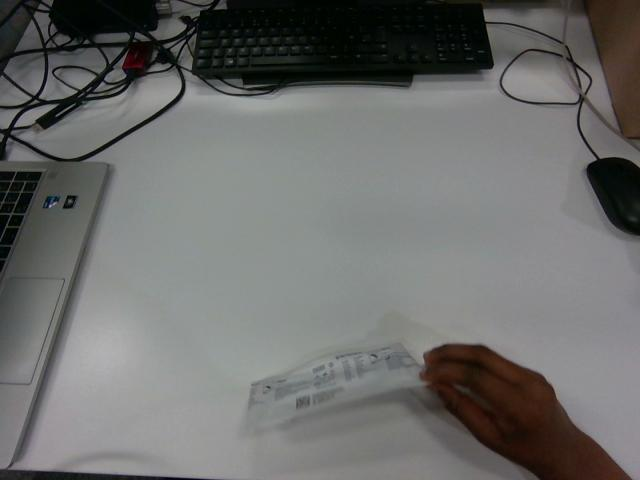syringe: (248, 343, 423, 425)
